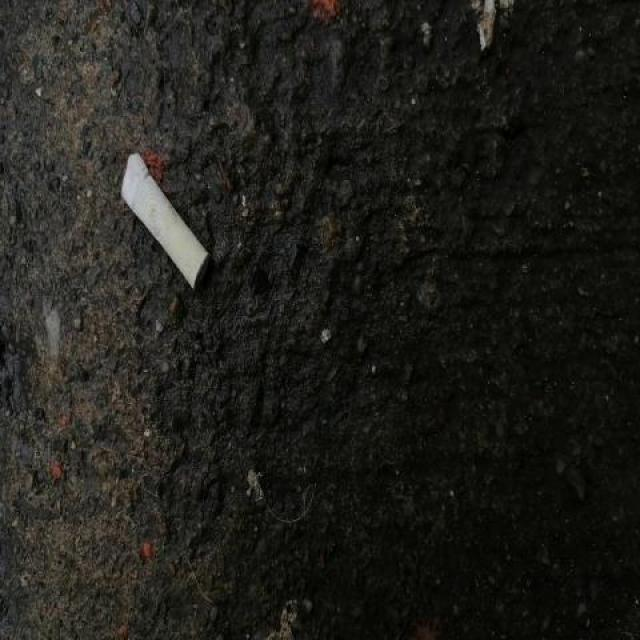non-organic waste: (115, 146, 216, 298)
